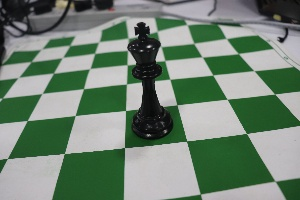black_king: (114, 10, 182, 148)
